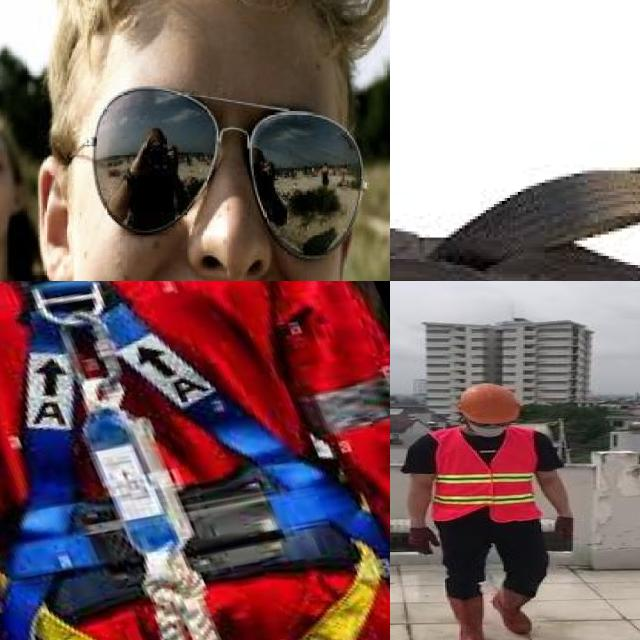Harness: (0, 281, 390, 640)
No_Ear-Protection: (25, 153, 91, 281)
Sandals: (390, 58, 640, 281)
boots: (491, 583, 539, 635), (445, 596, 491, 640)
face_mask: (467, 418, 512, 438)
face_nomask: (76, 85, 347, 281)
glasses: (63, 87, 369, 272)
hand_glove: (408, 527, 442, 554), (554, 518, 578, 538)
head_helmet: (456, 382, 523, 424)
head_nohelmet: (48, 0, 372, 83)
person: (402, 378, 581, 640), (0, 97, 73, 281)
vest: (425, 428, 541, 522)
